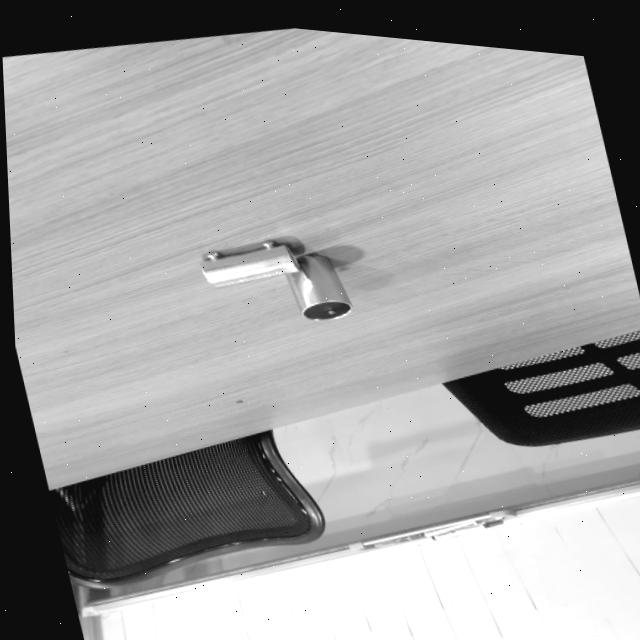Co_Lon: (278, 244, 354, 331)
Co_Nho: (197, 236, 300, 289)
